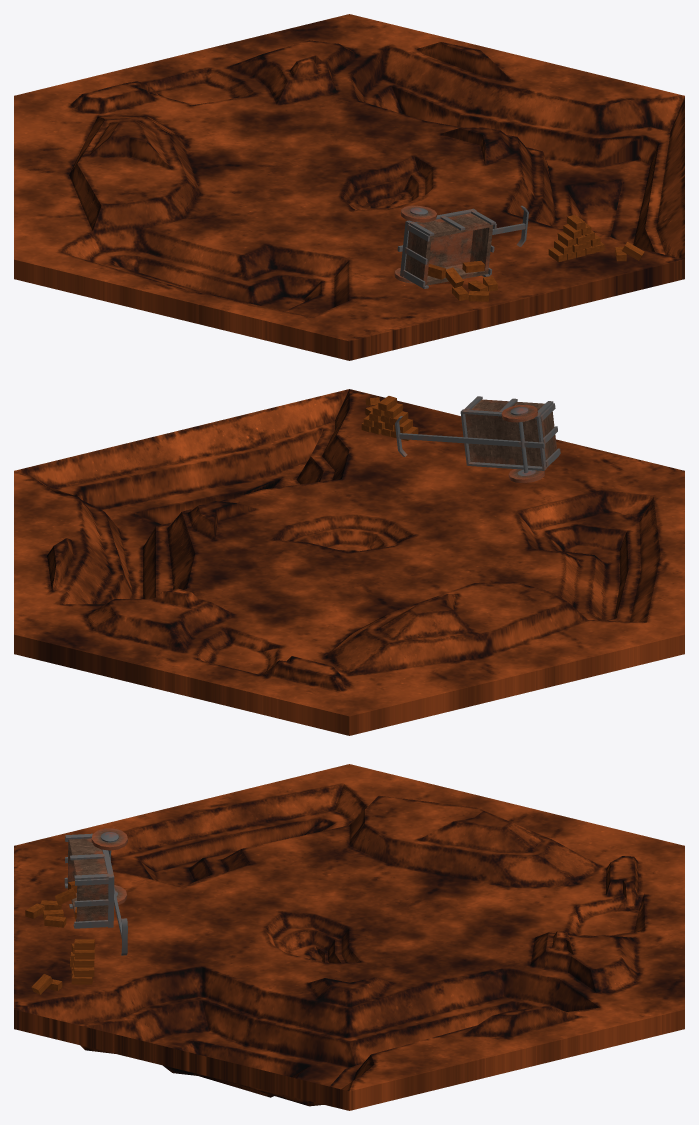
The model's file is brick_tile_zombiefied01.fbx.
The picture shows the model from 3 angles, top to bottom: view 1: azimuth 30°, elevation 25°; view 2: azimuth 150°, elevation 25°; view 3: azimuth 270°, elevation 25°; orthographic projection.
Parts seen in each view (by area): view 1: brick_tile_ground, cart; view 2: brick_tile_ground, cart, pCube17, wheel2; view 3: brick_tile_ground, cart, wheel2.
Boxes of the visible parts, x1,y1,x2,y2 form: brick_tile_ground: [14, 14, 684, 360]; cart: [405, 213, 493, 285]; brick_tile_ground: [14, 389, 684, 735]; cart: [465, 399, 556, 466]; pCube17: [399, 433, 544, 448]; wheel2: [501, 404, 537, 422]; brick_tile_ground: [14, 764, 684, 1110]; cart: [67, 838, 108, 921]; wheel2: [91, 828, 127, 850].
Bounding box in the file's own units: 139 × 25.21 × 120.
